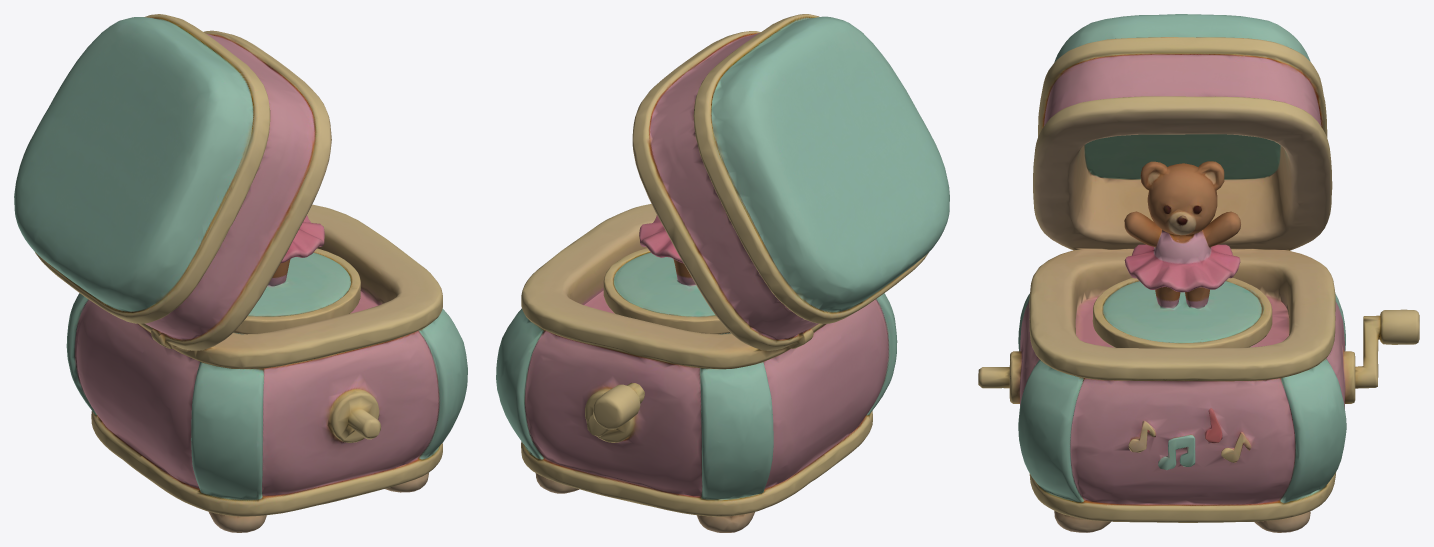
Rendered from music_box.glb.
3 renders of one model, left to right at view 1: azimuth 30°, elevation 25°; view 2: azimuth 150°, elevation 25°; view 3: azimuth 270°, elevation 25°, orthographic. The views are drawn at different scales.
Visible parts, largest first — view 1: tripo_node_2e388586-2df1-4730-85bf-5ea145101a05; view 2: tripo_node_2e388586-2df1-4730-85bf-5ea145101a05; view 3: tripo_node_2e388586-2df1-4730-85bf-5ea145101a05.
Boxes of the visible parts, x1=… form: tripo_node_2e388586-2df1-4730-85bf-5ea145101a05: x1=14, y1=14, x2=467, y2=532; tripo_node_2e388586-2df1-4730-85bf-5ea145101a05: x1=496, y1=14, x2=949, y2=532; tripo_node_2e388586-2df1-4730-85bf-5ea145101a05: x1=978, y1=14, x2=1419, y2=532.
Size of the model in its own units: 0.835 by 1 by 0.9327.
Materials: 1 (1 with a texture image).
